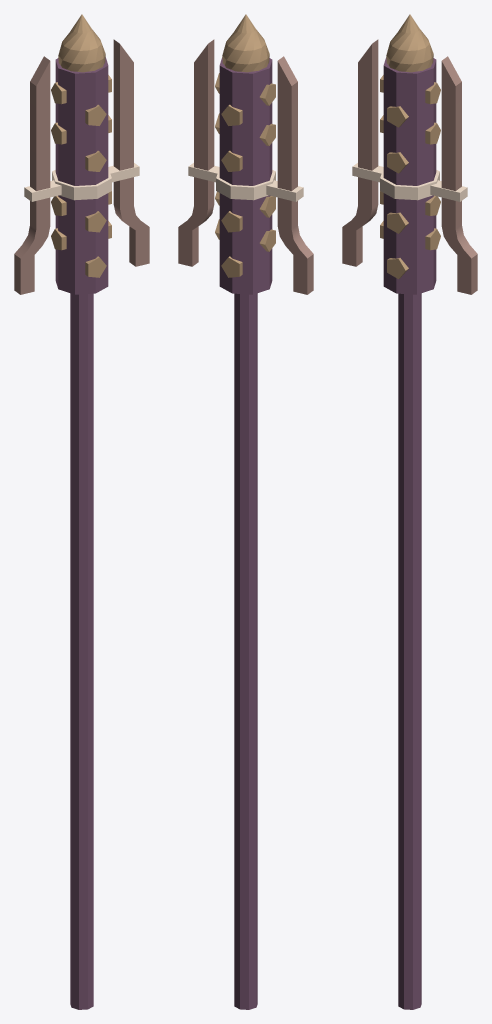
The model's file is cane-18.glb.
The picture shows the model from 3 angles, left to right: view 1: azimuth 30°, elevation 25°; view 2: azimuth 150°, elevation 25°; view 3: azimuth 330°, elevation 25°; orthographic projection.
Visible parts, largest first — view 1: cane_18; view 2: cane_18; view 3: cane_18.
Part boxes in pixels (box(x1,y1,x2,y2)): cane_18: box(14, 14, 149, 1009); cane_18: box(178, 14, 313, 1009); cane_18: box(342, 14, 477, 1009).
Size of the model in its own units: 25.8 by 189 by 10.7.
Materials: 1 (1 with a texture image).
